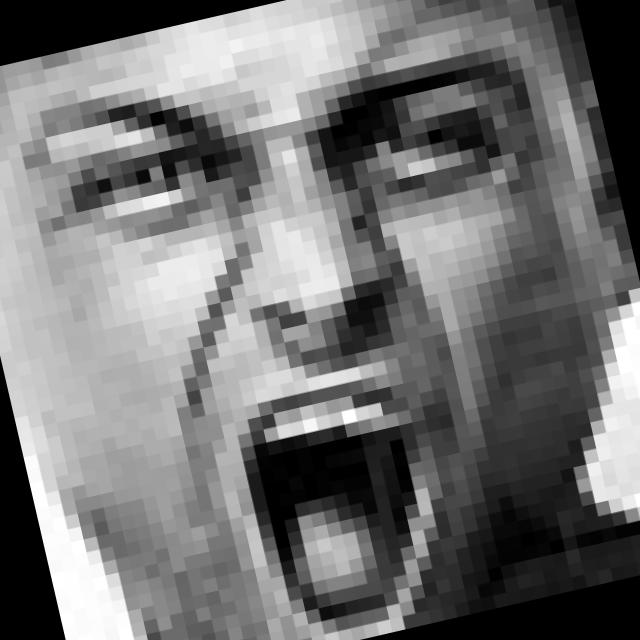angry: (11, 1, 638, 640)
